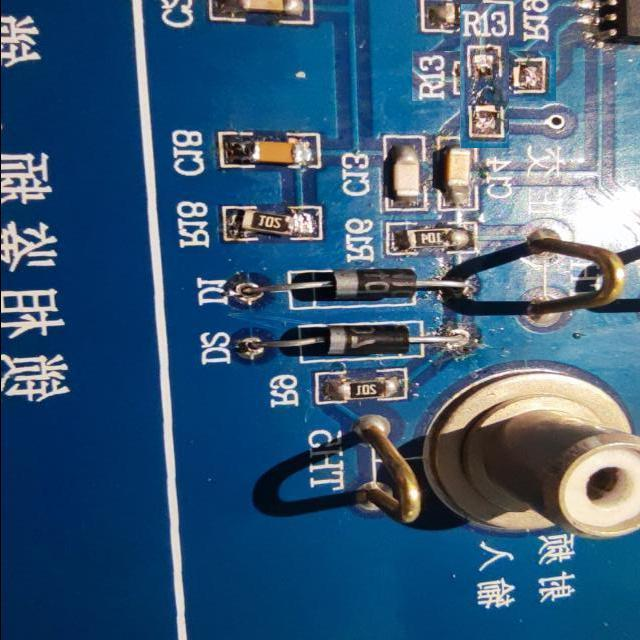miss_welding: (436, 28, 532, 125)
